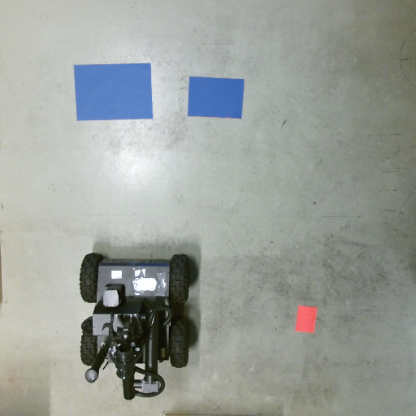Blue: (72, 63, 154, 121), (186, 77, 244, 119)
Jaguar: (77, 251, 194, 402)
Red: (293, 305, 317, 333)
